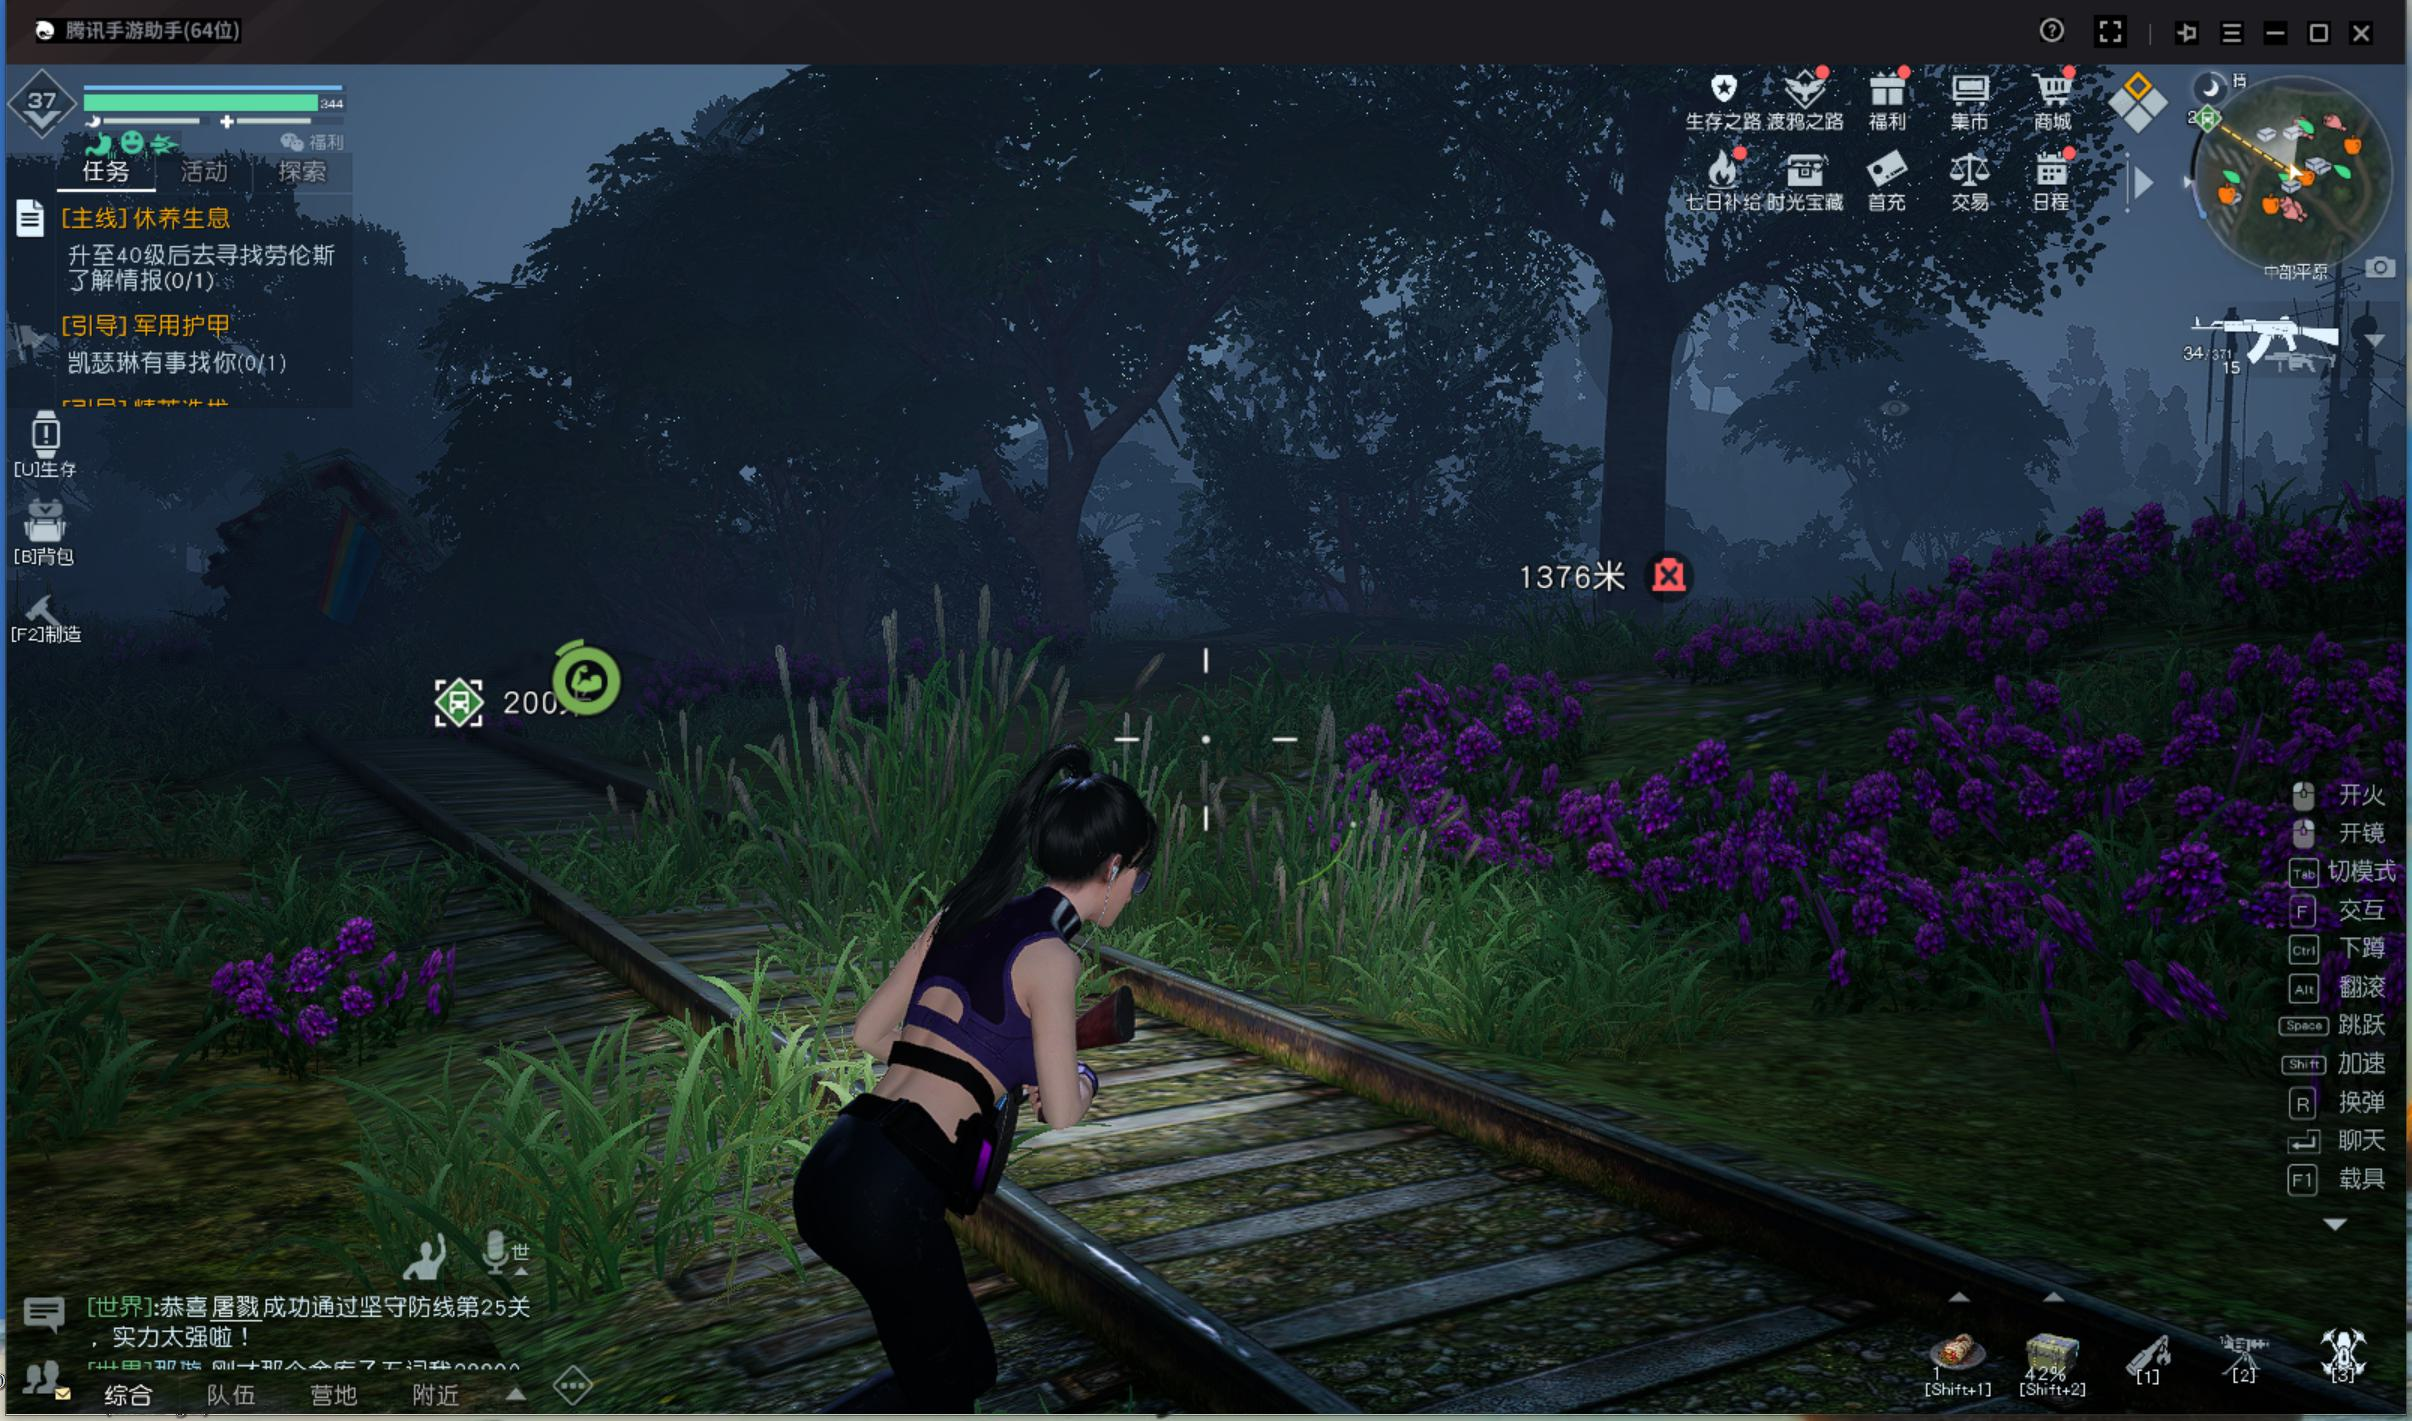tree: (1575, 315, 1681, 633), (1006, 464, 1099, 656)
